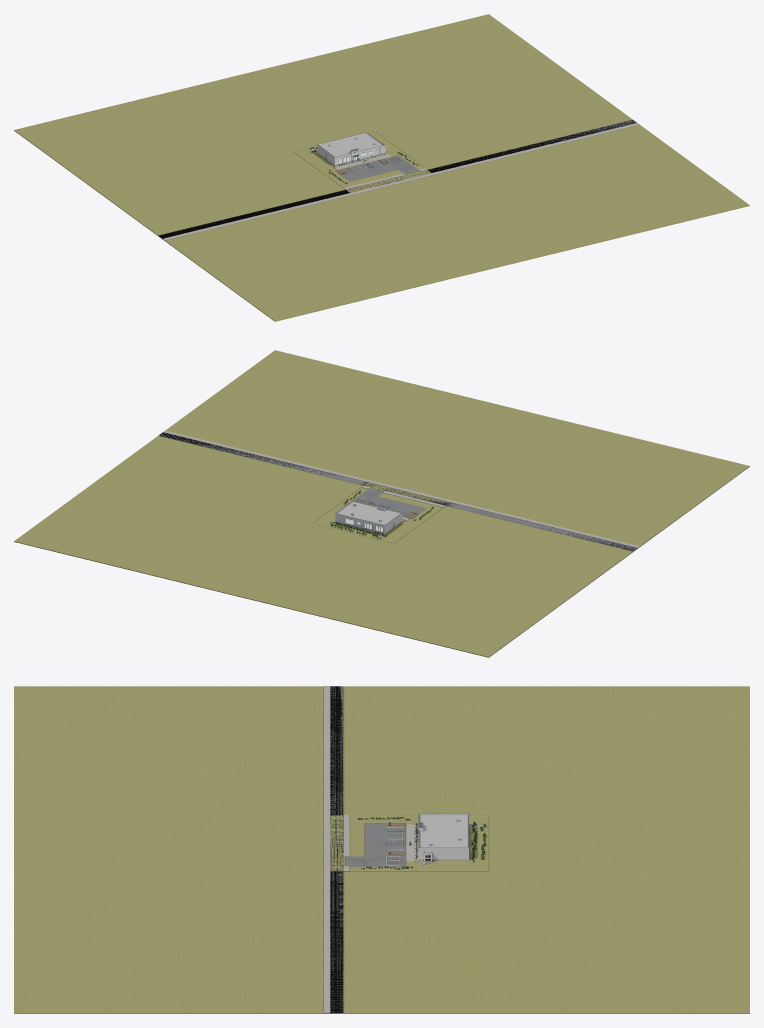
File: maket.glb
The picture shows the model from 3 angles, top to bottom: view 1: azimuth 30°, elevation 25°; view 2: azimuth 150°, elevation 25°; view 3: azimuth 270°, elevation 25°; orthographic projection. The views are drawn at different scales.
Visible parts, largest first — view 1: tapak, atap; view 2: tapak, atap; view 3: tapak, atap, struktur.
Boxes of the visible parts, x1,y1,x2,y2 form: tapak: (14,14,749,321); atap: (317,132,385,158); tapak: (14,350,749,657); atap: (335,500,402,526); tapak: (14,686,749,1013); atap: (418,813,468,853); struktur: (414,817,468,861).
Size of the model in its own units: 210 by 4.85 by 200.
Materials: 22 (17 with a texture image).
